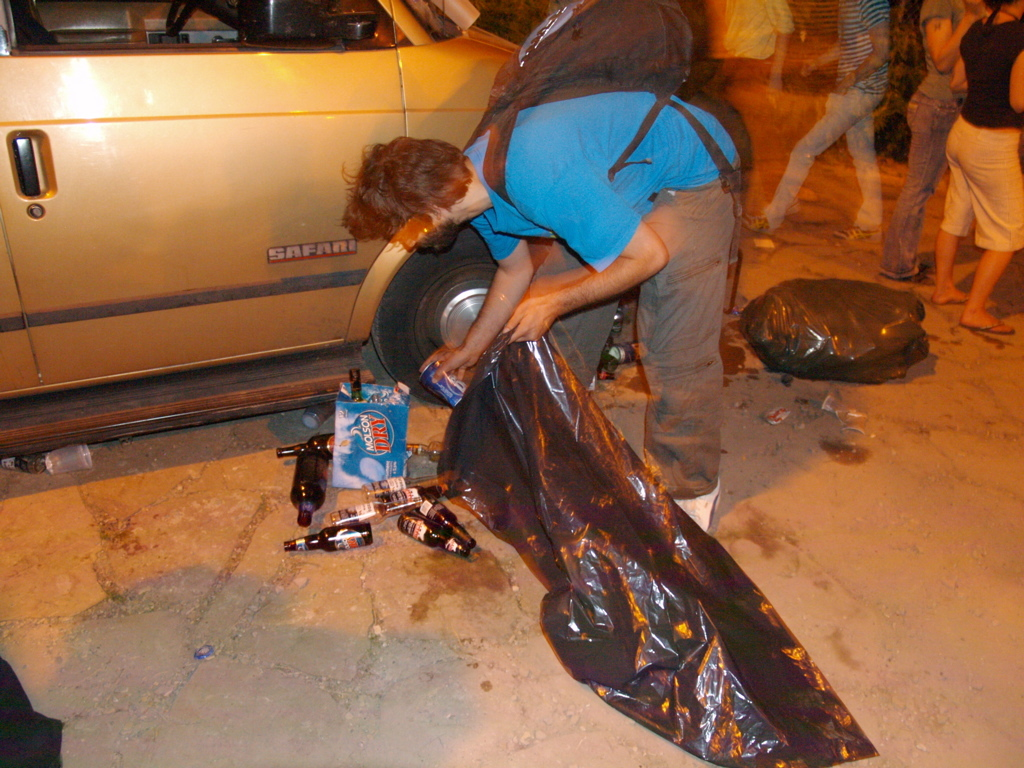cars: (0, 0, 611, 465)
